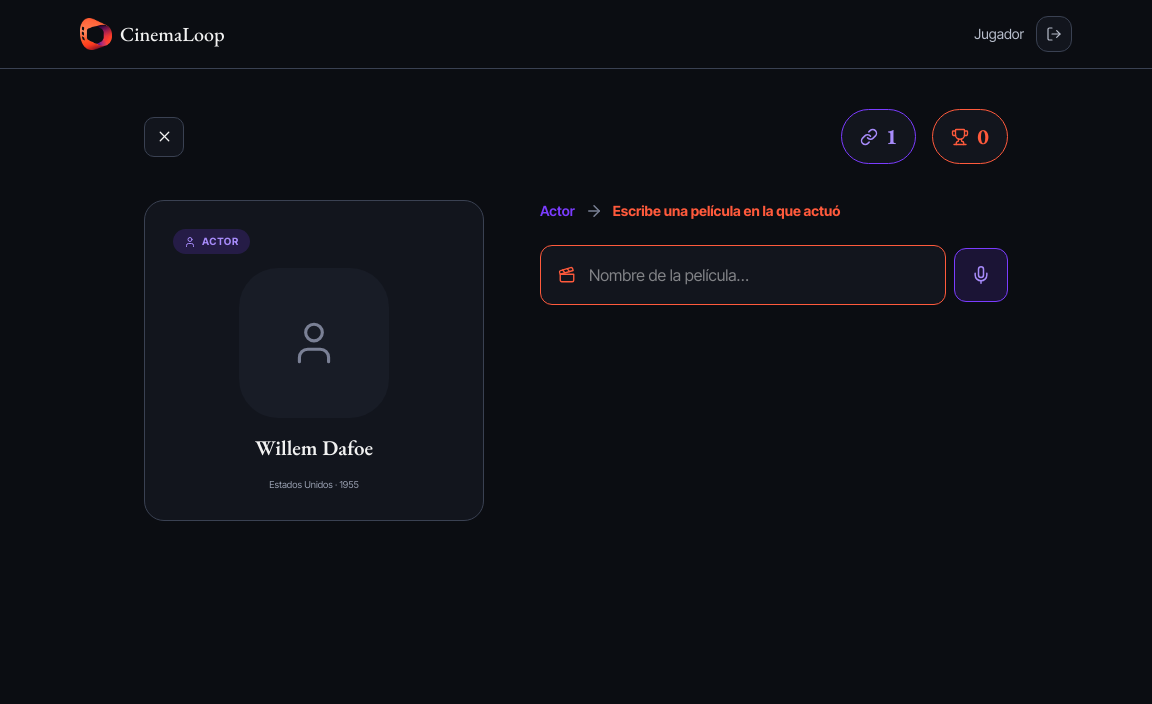
Test: PartidaPage › Maratón: si el servidor cerró la partida por inactividad, termina la partida en vez de mostrar el error genérico
In the field with placeholder "Nombre de la película…": x=743, y=275 [540,245,946,305], type "The Lighthouse"
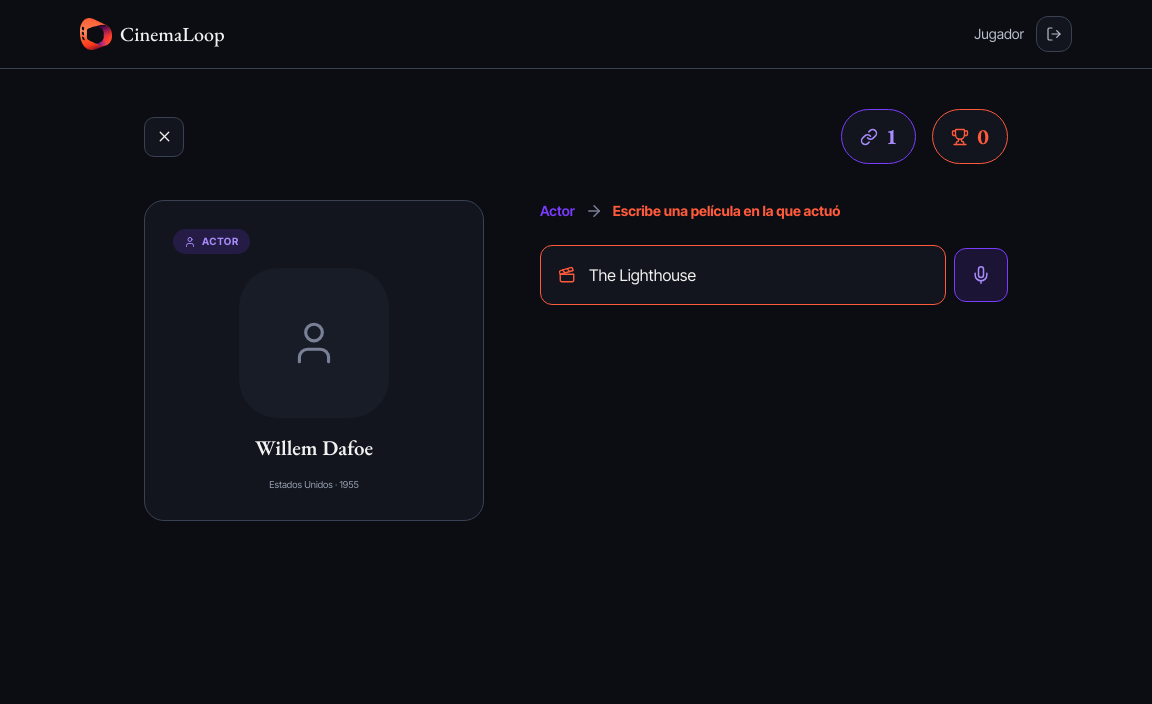
Submit the form with placeholder "Nombre de la película…", box [540,245,1008,305]
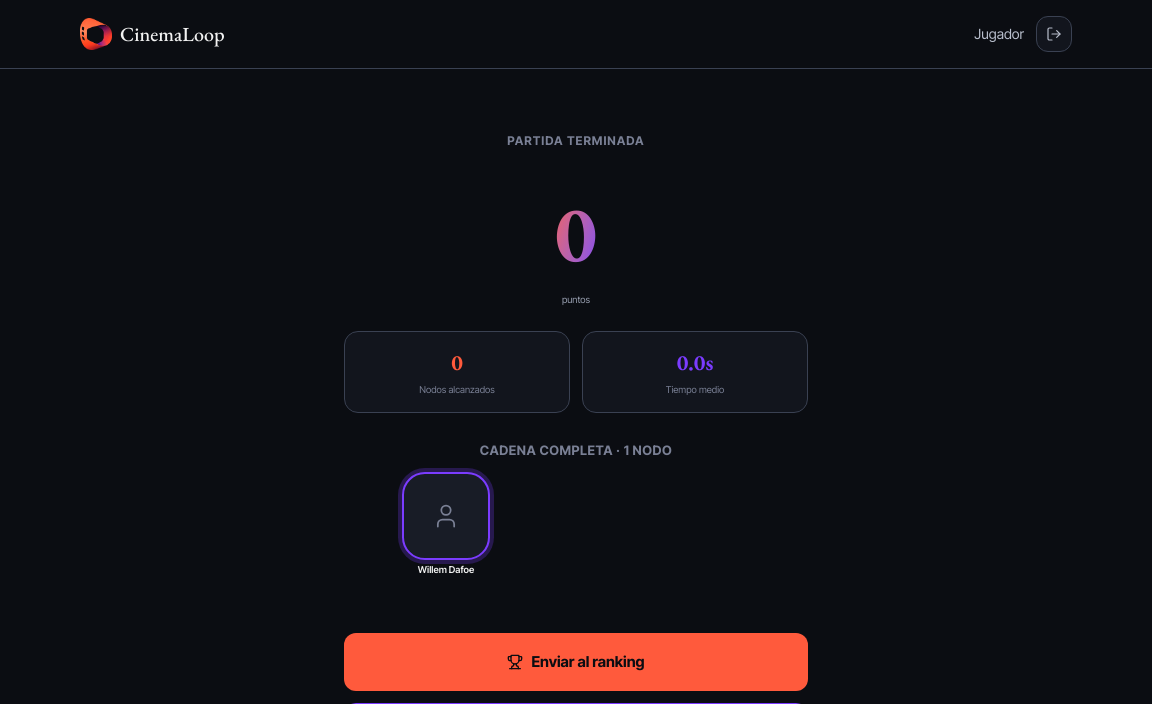
Check: the text "Partida terminada" is shown, box [507,133,645,149]
